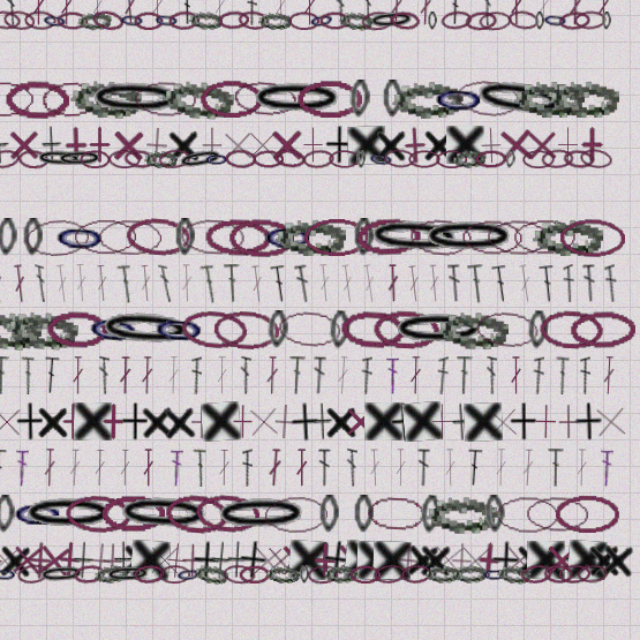chain: (460, 120, 546, 164), (369, 243, 453, 280), (136, 323, 220, 360), (152, 483, 236, 520), (128, 124, 211, 159), (237, 485, 320, 519), (268, 125, 351, 158), (417, 245, 500, 278), (391, 325, 474, 358), (70, 485, 153, 518), (26, 323, 89, 361), (445, 122, 506, 161), (208, 323, 268, 361), (462, 323, 522, 361), (193, 124, 255, 160), (392, 124, 454, 160), (58, 324, 120, 360), (252, 123, 311, 160), (405, 243, 464, 280), (113, 124, 175, 159), (72, 244, 132, 280), (160, 243, 218, 280), (291, 323, 349, 360), (194, 483, 252, 520), (220, 483, 278, 520), (236, 324, 295, 360), (108, 484, 167, 520), (346, 324, 404, 360), (432, 325, 493, 359), (422, 485, 483, 519), (207, 244, 266, 279), (375, 324, 433, 359), (498, 125, 559, 158), (528, 125, 589, 158), (291, 245, 352, 278), (514, 245, 575, 278), (360, 244, 417, 279), (229, 245, 287, 279), (280, 485, 338, 519), (86, 124, 142, 159), (519, 324, 575, 359), (368, 484, 424, 519), (167, 125, 224, 159), (136, 245, 193, 279), (250, 245, 307, 279), (537, 245, 594, 279), (546, 325, 603, 359), (56, 125, 112, 159), (451, 245, 507, 279), (473, 245, 529, 279), (481, 485, 537, 519), (507, 485, 563, 519), (25, 125, 82, 158), (309, 125, 366, 158), (315, 245, 372, 278), (496, 245, 553, 278), (533, 485, 590, 518), (92, 325, 147, 359), (225, 125, 281, 158), (115, 245, 171, 278), (139, 485, 195, 518), (126, 323, 175, 360), (184, 324, 231, 359), (98, 245, 145, 279), (427, 125, 473, 159), (279, 245, 325, 278), (62, 485, 108, 518), (205, 183, 247, 205), (371, 64, 412, 83), (85, 545, 126, 563), (143, 545, 183, 563), (83, 185, 123, 202), (101, 185, 141, 202), (133, 543, 164, 564), (337, 325, 356, 359), (509, 325, 528, 359), (416, 485, 435, 519), (220, 544, 251, 564), (131, 63, 160, 84), (355, 125, 373, 158), (49, 245, 67, 278), (284, 325, 302, 358), (47, 485, 65, 518), (472, 485, 490, 518), (41, 184, 70, 204), (444, 184, 474, 203), (554, 184, 584, 203), (384, 125, 401, 158), (72, 245, 89, 278), (204, 245, 221, 278), (359, 245, 376, 278), (329, 485, 346, 518), (359, 485, 376, 518), (54, 64, 83, 83), (189, 184, 218, 203), (66, 544, 95, 563), (119, 65, 149, 83), (346, 65, 376, 83), (483, 545, 513, 563), (42, 64, 70, 83), (258, 64, 286, 83), (434, 64, 462, 83), (492, 64, 520, 83), (289, 184, 317, 203), (376, 544, 404, 563), (503, 544, 531, 563), (467, 65, 496, 83), (245, 545, 274, 563), (365, 65, 393, 83), (455, 65, 483, 83), (536, 65, 564, 83), (67, 185, 95, 203), (159, 185, 187, 203), (314, 185, 342, 203), (540, 185, 568, 203), (115, 545, 143, 563), (318, 545, 346, 563), (216, 65, 245, 82), (521, 185, 550, 202), (333, 545, 362, 562), (421, 545, 450, 562), (445, 545, 474, 562), (390, 65, 417, 83), (73, 65, 101, 82), (550, 65, 578, 82), (167, 545, 195, 562), (399, 545, 427, 562), (536, 545, 564, 562), (552, 545, 580, 562), (276, 66, 305, 82), (177, 186, 206, 202), (283, 546, 312, 562), (198, 65, 225, 82), (241, 65, 268, 82), (247, 185, 274, 202), (385, 185, 412, 202), (523, 545, 550, 562), (319, 64, 343, 83), (146, 186, 174, 202), (406, 186, 434, 202), (505, 186, 533, 202), (101, 66, 128, 82), (302, 66, 329, 82), (329, 66, 356, 82), (121, 186, 148, 202), (271, 186, 298, 202), (337, 186, 364, 202), (430, 186, 457, 202), (464, 186, 491, 202), (190, 546, 217, 562), (259, 546, 286, 562), (355, 546, 382, 562), (168, 66, 194, 82), (88, 65, 111, 83), (371, 185, 394, 203), (204, 545, 227, 563), (155, 65, 178, 82), (185, 65, 208, 82), (522, 65, 545, 82), (229, 186, 251, 202), (45, 546, 67, 562), (470, 546, 492, 562), (490, 186, 499, 202), (423, 66, 431, 82), (516, 66, 524, 82), (574, 66, 582, 82), (361, 186, 369, 202), (312, 546, 320, 562)
double: (286, 285, 303, 319), (457, 285, 474, 319), (478, 285, 495, 319), (225, 285, 241, 319), (307, 285, 323, 319), (519, 285, 535, 319), (42, 285, 57, 319), (153, 285, 168, 319), (346, 285, 361, 319), (365, 285, 380, 319), (500, 285, 515, 319), (246, 285, 261, 318), (89, 365, 104, 398), (302, 365, 317, 398), (447, 365, 462, 398), (456, 445, 471, 478), (62, 285, 76, 319), (99, 285, 113, 319), (268, 285, 282, 319), (404, 285, 418, 319), (440, 45, 454, 78), (46, 365, 60, 398), (532, 365, 546, 398), (44, 445, 58, 478), (527, 445, 541, 478), (158, 45, 171, 78), (208, 45, 221, 78), (116, 285, 129, 318), (134, 285, 147, 318), (172, 285, 185, 318), (189, 285, 202, 318), (327, 285, 340, 318), (422, 285, 435, 318), (440, 285, 453, 318), (557, 285, 570, 318), (69, 365, 82, 398), (343, 365, 356, 398), (284, 445, 297, 478), (390, 45, 402, 78), (415, 45, 427, 78), (545, 45, 557, 78), (208, 285, 220, 318), (387, 285, 399, 318), (576, 285, 588, 318), (282, 365, 294, 398), (323, 365, 335, 398), (574, 365, 586, 398), (65, 445, 77, 478), (89, 445, 101, 478), (111, 445, 123, 478), (199, 445, 211, 478), (219, 445, 231, 478), (371, 445, 383, 478), (504, 445, 516, 478), (572, 445, 584, 478), (80, 45, 91, 78), (104, 45, 115, 78), (131, 45, 142, 78), (183, 45, 194, 78), (237, 45, 248, 78), (290, 45, 301, 78), (315, 45, 326, 78), (494, 45, 505, 78), (518, 45, 529, 78), (570, 45, 581, 78), (82, 285, 93, 318), (540, 285, 551, 318), (114, 365, 125, 398), (155, 365, 166, 398), (174, 365, 185, 398), (197, 365, 208, 398), (239, 365, 250, 398), (259, 365, 270, 398), (387, 365, 398, 398), (407, 365, 418, 398), (494, 365, 505, 398), (133, 445, 144, 478), (155, 445, 166, 478), (175, 445, 186, 478), (241, 445, 252, 478), (308, 445, 319, 478), (328, 445, 339, 478), (394, 445, 405, 478), (414, 445, 425, 478), (437, 445, 448, 478), (481, 445, 492, 478), (551, 445, 562, 478), (342, 45, 352, 78), (137, 365, 147, 398), (365, 365, 375, 398), (431, 365, 441, 398), (473, 365, 483, 398), (514, 365, 524, 398), (352, 445, 362, 478), (57, 45, 66, 78), (266, 45, 275, 78), (470, 45, 479, 78), (218, 365, 227, 398), (555, 365, 564, 398), (262, 445, 271, 478), (367, 45, 375, 78)
noise: (4, 286, 22, 304)
single: (27, 524, 63, 560), (81, 524, 117, 560), (121, 524, 157, 560), (187, 524, 223, 560), (350, 524, 386, 560), (458, 524, 494, 560), (170, 164, 205, 199), (482, 164, 517, 199), (226, 404, 261, 439), (263, 404, 298, 439), (281, 404, 316, 439), (401, 404, 436, 439), (564, 404, 599, 439), (58, 524, 93, 559), (95, 524, 130, 559), (165, 524, 200, 559), (302, 524, 337, 559), (340, 524, 375, 559), (388, 524, 423, 559), (423, 524, 458, 559), (485, 524, 520, 559), (544, 524, 579, 559), (146, 165, 180, 199), (241, 165, 275, 199), (353, 165, 387, 199), (395, 165, 429, 199), (461, 165, 495, 199), (505, 165, 539, 199), (454, 405, 488, 439), (471, 405, 505, 439), (39, 525, 73, 559), (70, 525, 104, 559), (132, 525, 166, 559), (202, 525, 236, 559), (267, 525, 301, 559), (278, 525, 312, 559), (292, 525, 326, 559), (361, 525, 395, 559), (375, 525, 409, 559), (435, 525, 469, 559), (447, 525, 481, 559), (522, 525, 556, 559), (156, 524, 188, 559), (403, 524, 435, 559), (572, 524, 604, 559), (56, 165, 89, 198), (101, 165, 134, 198), (122, 165, 155, 198), (219, 165, 252, 198), (263, 165, 296, 198), (284, 165, 317, 198), (307, 165, 340, 198), (439, 165, 472, 198), (528, 165, 561, 198), (549, 165, 582, 198), (41, 405, 74, 438), (99, 405, 132, 438), (116, 405, 149, 438), (134, 405, 167, 438), (210, 405, 243, 438), (246, 405, 279, 438), (348, 405, 381, 438), (368, 405, 401, 438), (419, 405, 452, 438), (509, 405, 542, 438), (528, 405, 561, 438), (178, 525, 211, 558), (317, 525, 350, 558), (509, 525, 542, 558), (192, 405, 224, 439), (196, 165, 227, 199), (50, 525, 81, 559), (498, 525, 529, 559), (173, 405, 204, 438), (329, 524, 358, 559), (376, 165, 406, 198), (418, 165, 448, 198), (83, 405, 113, 438), (333, 405, 363, 438), (415, 525, 445, 558), (561, 525, 591, 558), (257, 524, 285, 559), (388, 405, 415, 439), (217, 525, 244, 559), (303, 405, 329, 439), (477, 525, 503, 559), (549, 405, 575, 438), (333, 165, 358, 198), (65, 405, 90, 438), (156, 405, 181, 438), (493, 405, 518, 438), (234, 525, 254, 559), (42, 165, 61, 199), (443, 405, 462, 439), (115, 525, 134, 559), (541, 525, 560, 559), (88, 165, 106, 198), (323, 405, 341, 438), (249, 525, 267, 558), (151, 525, 168, 558)
